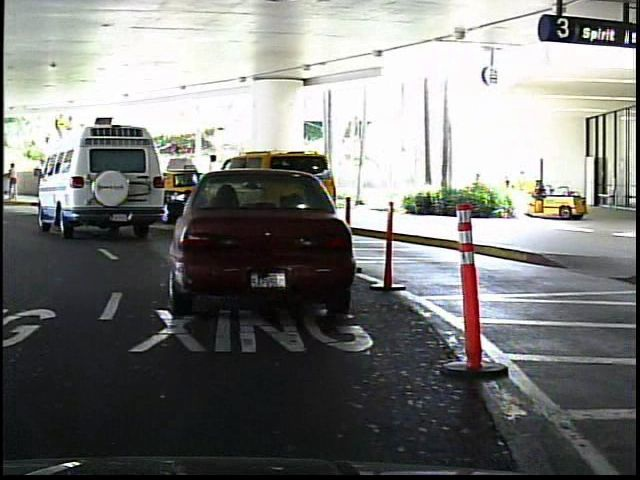person: (203, 151, 227, 210), (6, 161, 23, 202), (42, 155, 43, 198)
